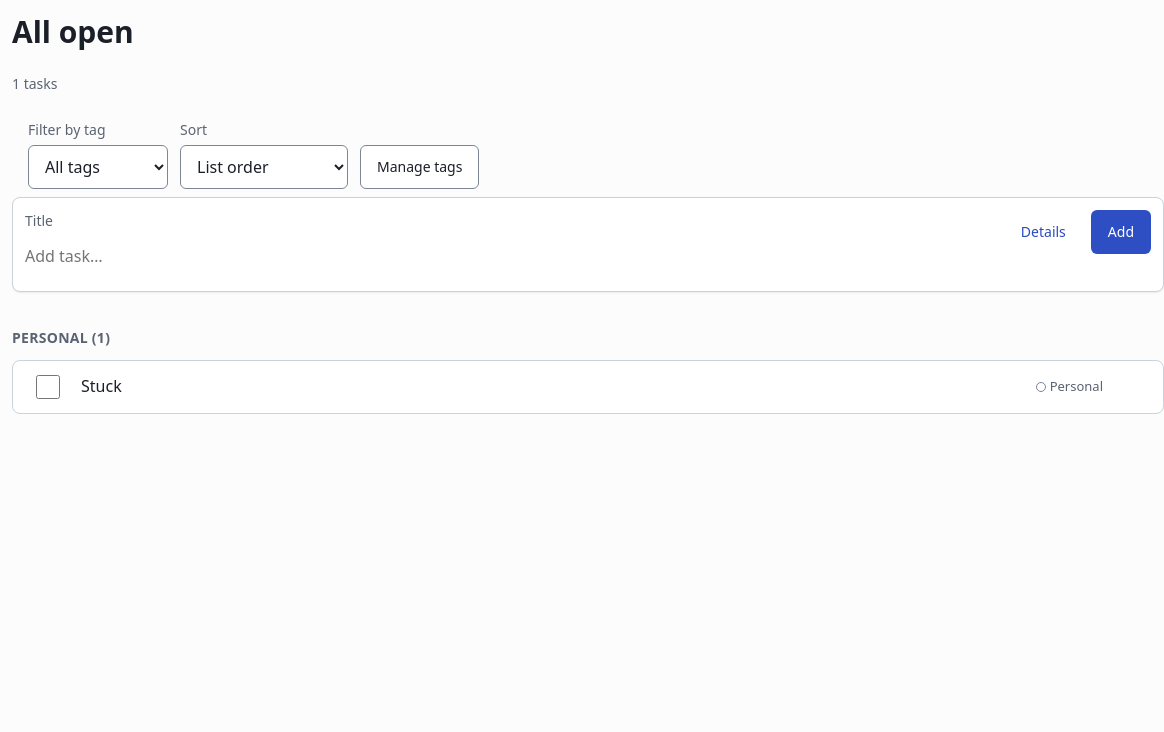
Test: S2 rows — structure & M4 complete/uncomplete › reports a write that never settles after 3 s with a Retry toast (§5.6)
The width and height of the screenshot is (1164, 732).
Step 1. Click the checkbox named "Mark \"Stuck\" as complete" → (48, 387), box left=36, top=375, right=60, bottom=399
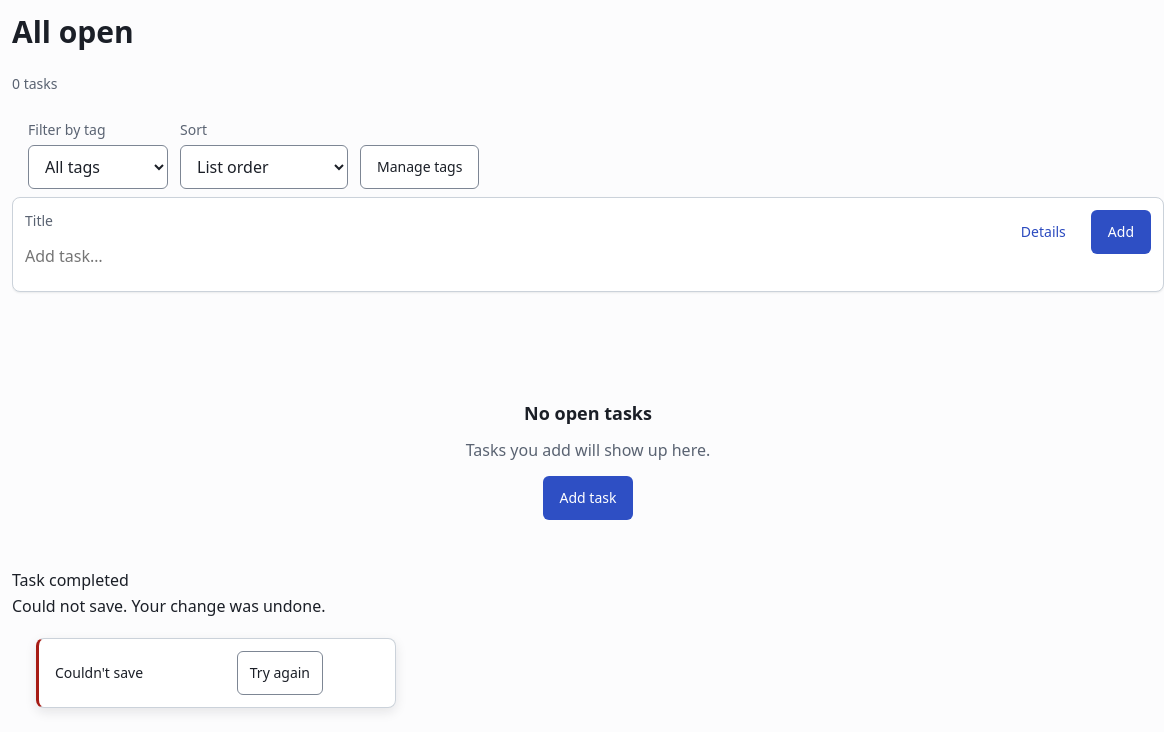
Result: the text "Could not save. Your change was undone." is shown at left=12, top=594, right=326, bottom=616
Result: the element with test id "toast-host" is shown at left=36, top=638, right=396, bottom=708
